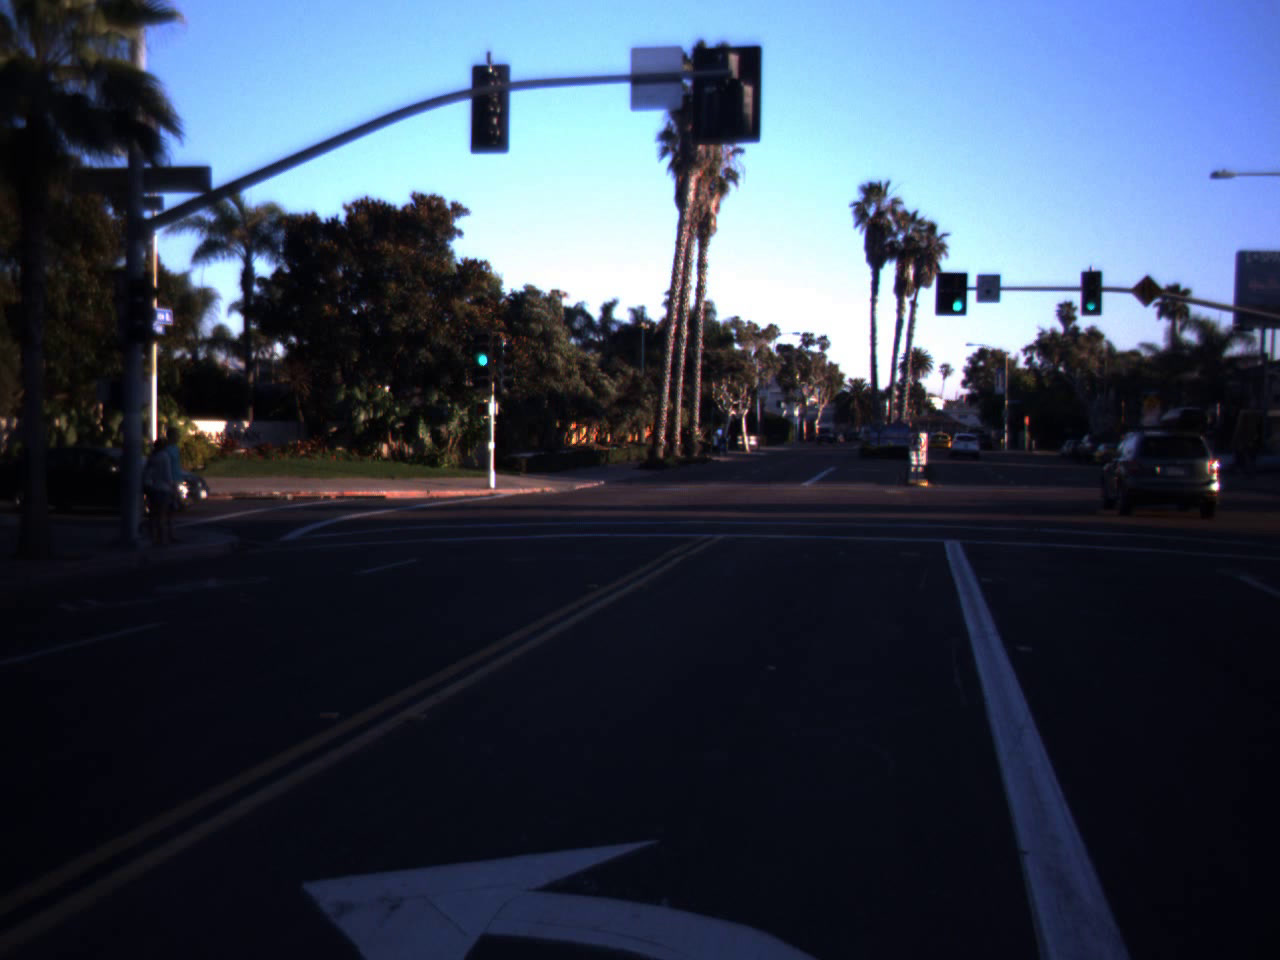go: (471, 320, 495, 370), (1079, 275, 1103, 315), (947, 274, 968, 314)
